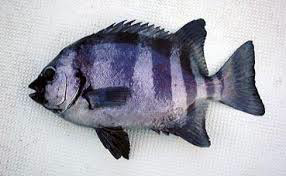azi: (38, 25, 266, 162)
